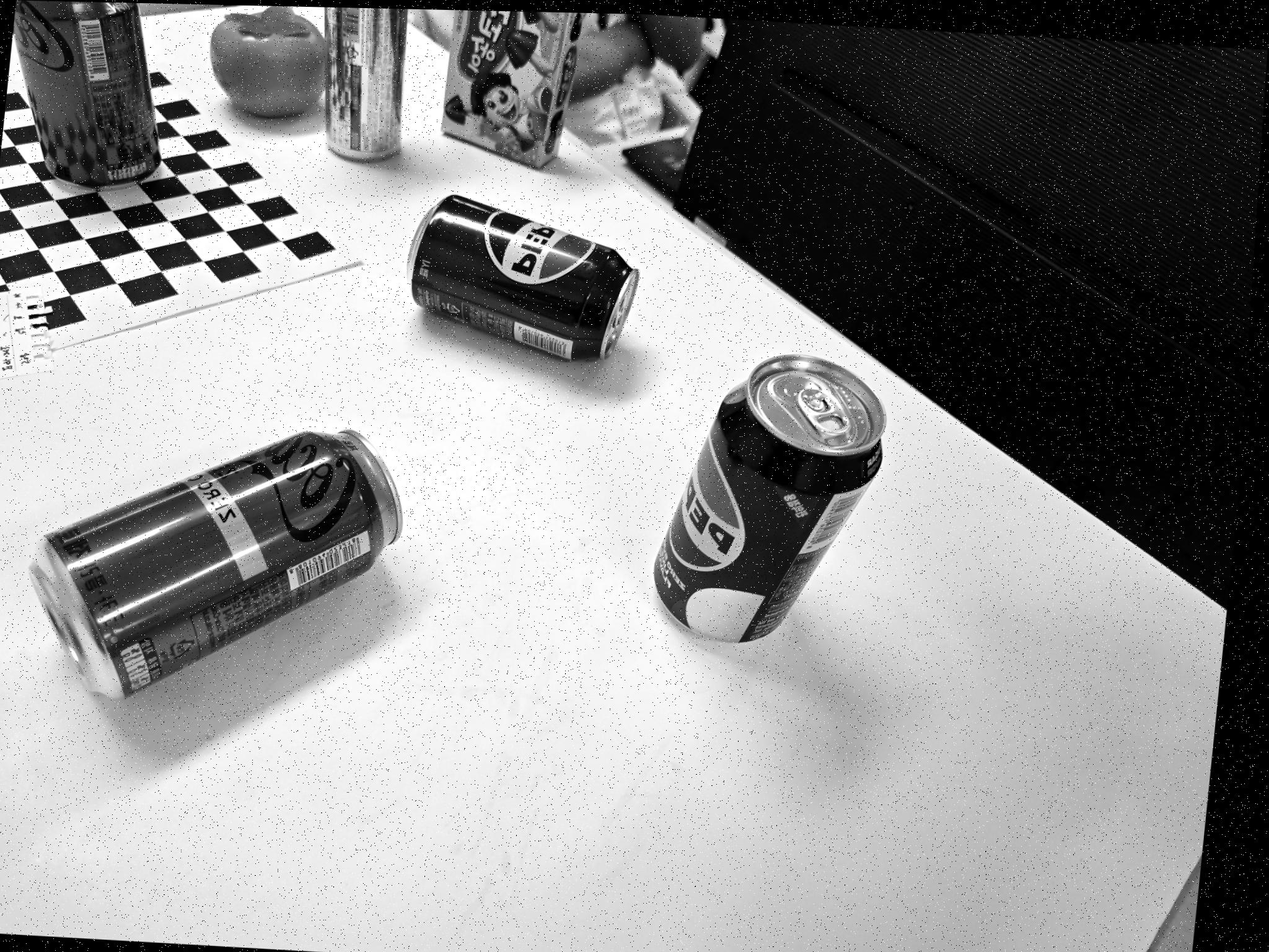can_coke_decaf: (29, 427, 403, 700)
can_pepsi: (408, 194, 637, 362)
can_pepsi_zero: (652, 353, 887, 642)
